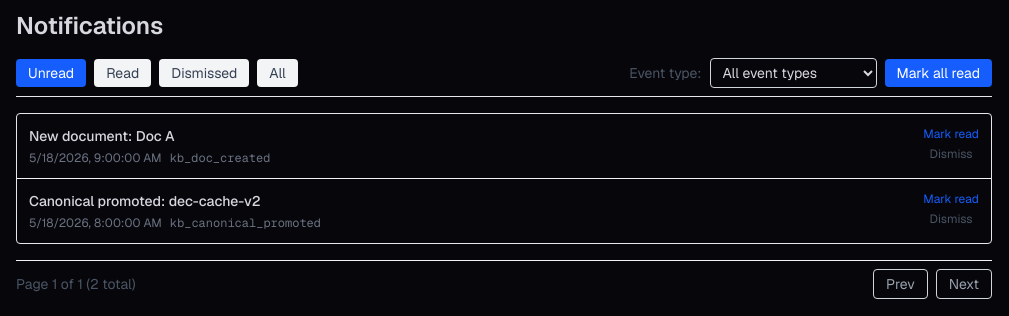
Test: NotificationPanel › disables Mark-all-read on non-unread tabs
The width and height of the screenshot is (1009, 316).
Click the button with test id "notif-panel-tab-all" at [278, 73], box x1=257 y1=59 x2=298 y2=87
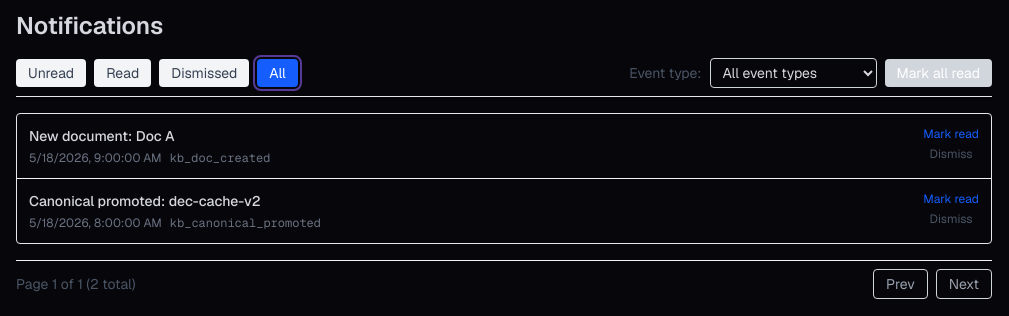
Expected: the button with test id "notif-panel-mark-all-read" is disabled, x1=884 y1=59 x2=992 y2=87
